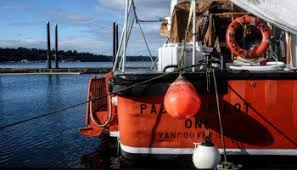buoy: (164, 82, 200, 118)
